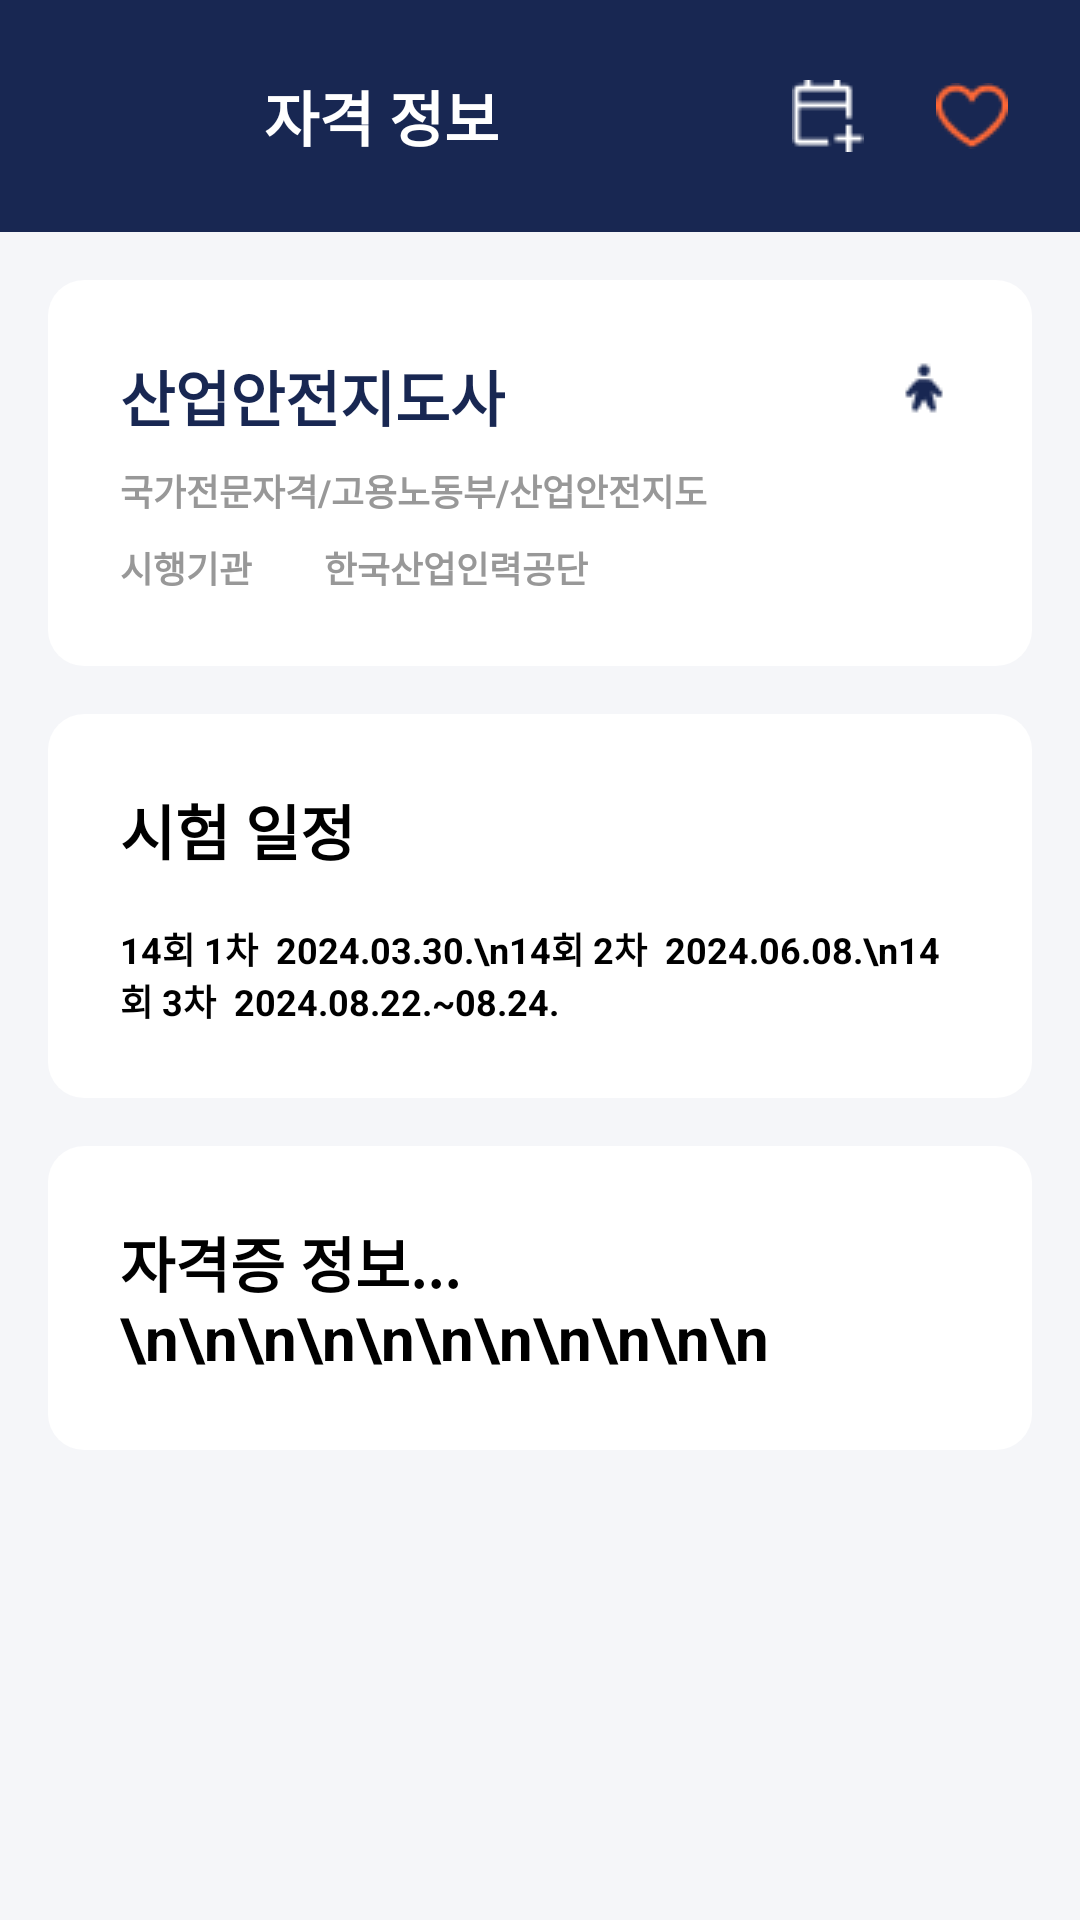

Icons on this 1080×1920 Android screen, each with its box as BBox(x1, y1, x2, y2):
calendar add: BBox(792, 80, 864, 152)
like off: BBox(936, 83, 1008, 149)
